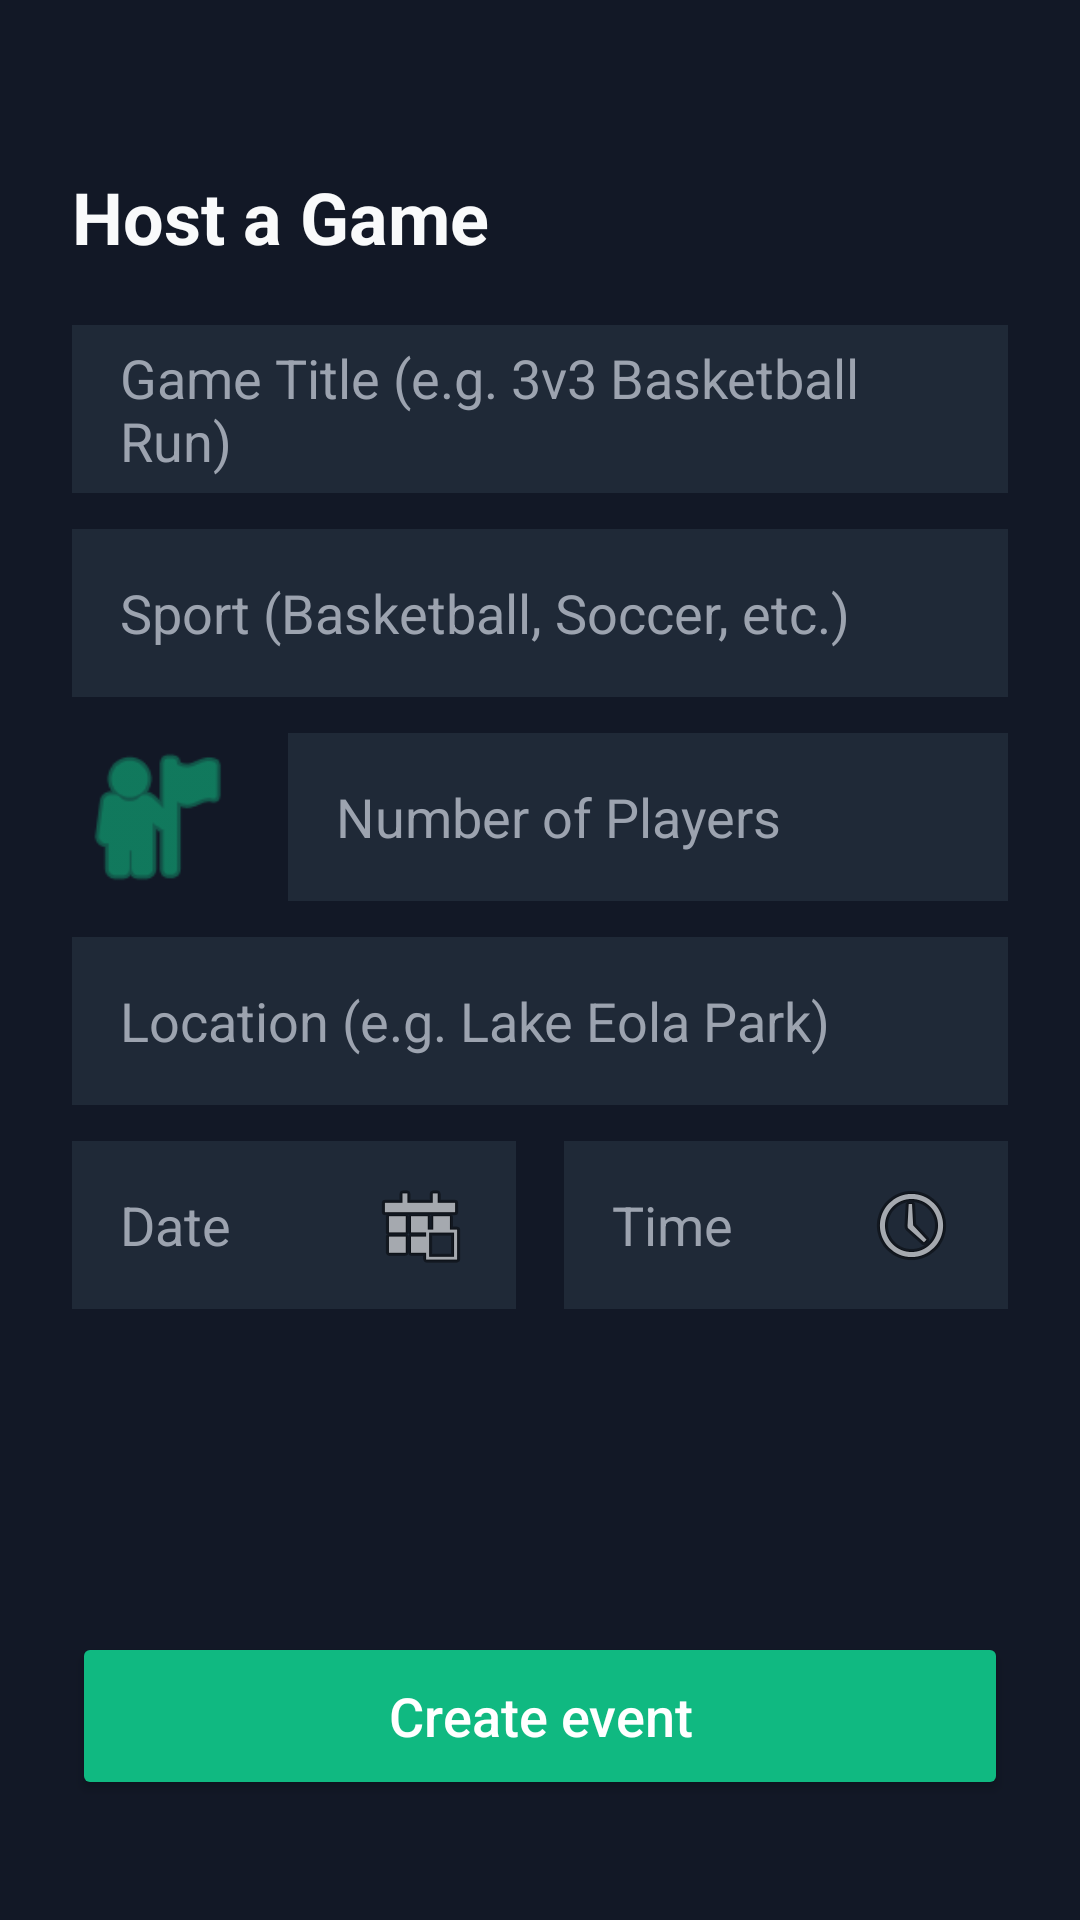

Icon bounding boxes for this 1080px x 1920px phone screenshot, format (x1, y1, x2, y2):
Person Icon: (95, 755, 221, 879)
